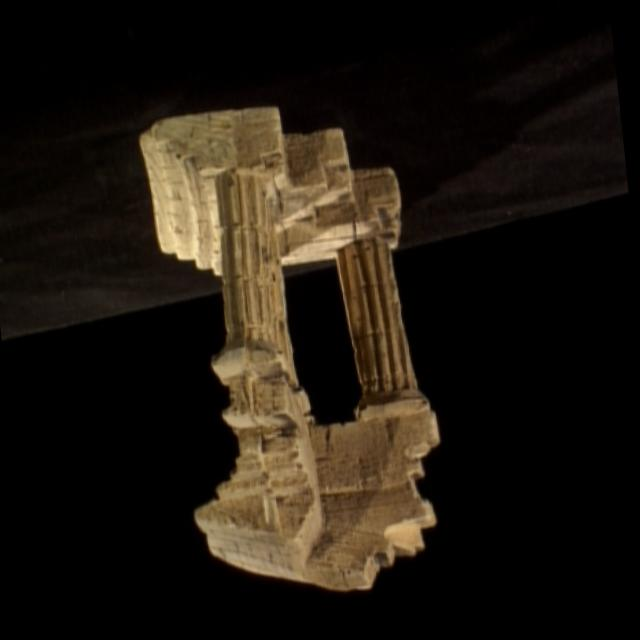Instance-Segmentation: (138, 108, 436, 589)
